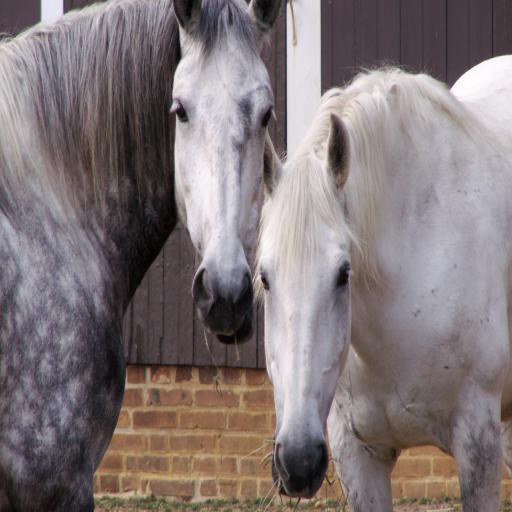horse: (0, 0, 278, 512), (251, 55, 511, 511)
